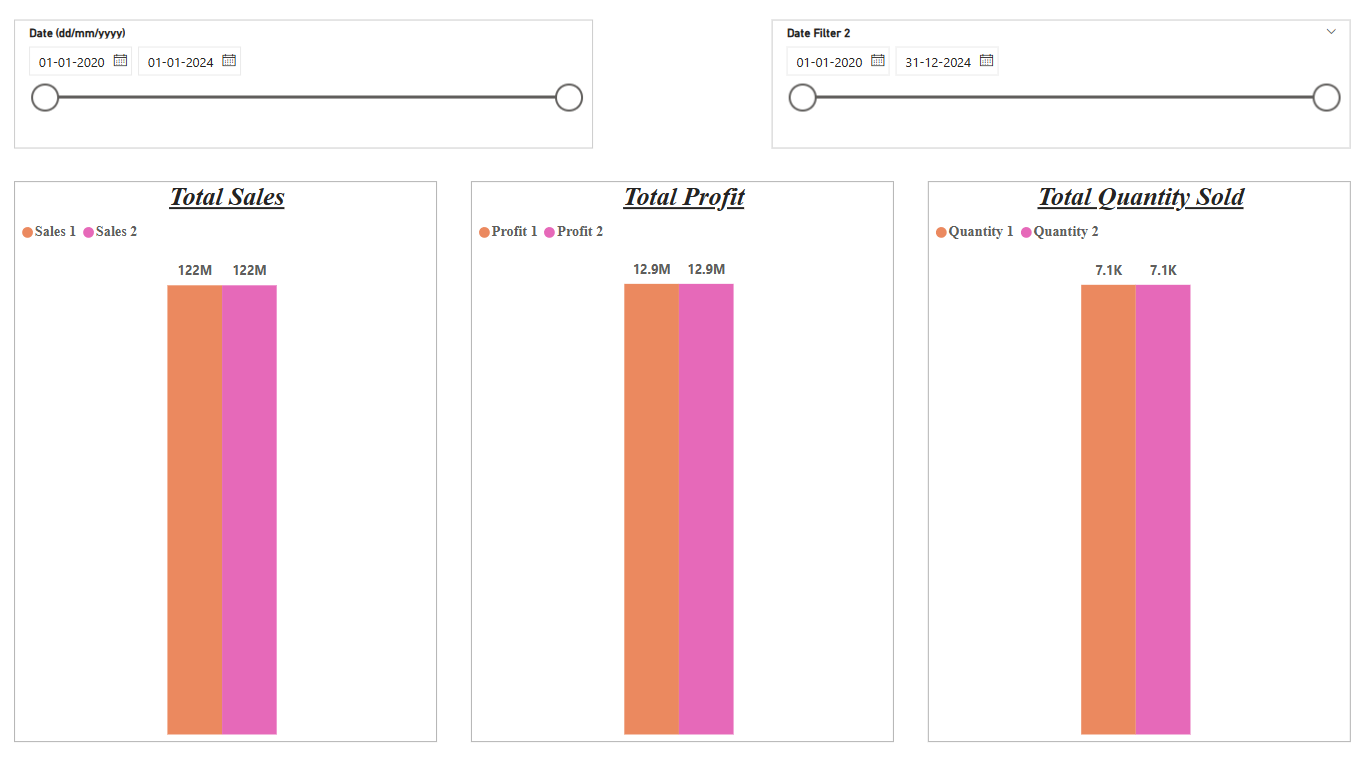

The dashboard page shown, as its layout file describes it:
{"tool":"powerbi","page":{"name":"Comparision Sales/Profit/Quantity","canvas":[1280,720],"ordinal":2},"visuals":[{"type":"slicer","fields":{"Values":["Fact Table.Date (dd/mm/yyyy)"]},"box":[15,22,541,121],"z":0},{"type":"slicer","fields":{"Values":["Date Table 2.Date"]},"box":[723,22,541,121],"z":1000},{"type":"clusteredColumnChart","title":"Total Sales","fields":{"Y":["Sum(Fact Table.Net Sales)","Date Table 1.Sum of Net Sales"]},"box":[15,173,395,524],"z":2000},{"type":"clusteredColumnChart","title":"Total Profit","fields":{"Y":["Sum(Fact Table.Profit)","Measures Table.Total Profit"]},"box":[442,173,395,524],"z":3000},{"type":"clusteredColumnChart","title":"Total Quantity Sold","fields":{"Y":["Sum(Fact Table.Units Sold)","Measures Table.Quantity Sold"]},"box":[869,173,395,524],"z":4000}]}

Visuals, with their boxes in screenshot pixels (x1, y1, x2, y2), scaled from the page's 1280x720 canvas onto the 1366x759 screenshot:
slicer - Fact Table.Date (dd/mm/yyyy): {"x1": 16, "y1": 23, "x2": 593, "y2": 151}
slicer - Date Table 2.Date: {"x1": 772, "y1": 23, "x2": 1349, "y2": 151}
"Total Sales" clusteredColumnChart: {"x1": 16, "y1": 182, "x2": 438, "y2": 735}
"Total Profit" clusteredColumnChart: {"x1": 472, "y1": 182, "x2": 893, "y2": 735}
"Total Quantity Sold" clusteredColumnChart: {"x1": 927, "y1": 182, "x2": 1349, "y2": 735}
